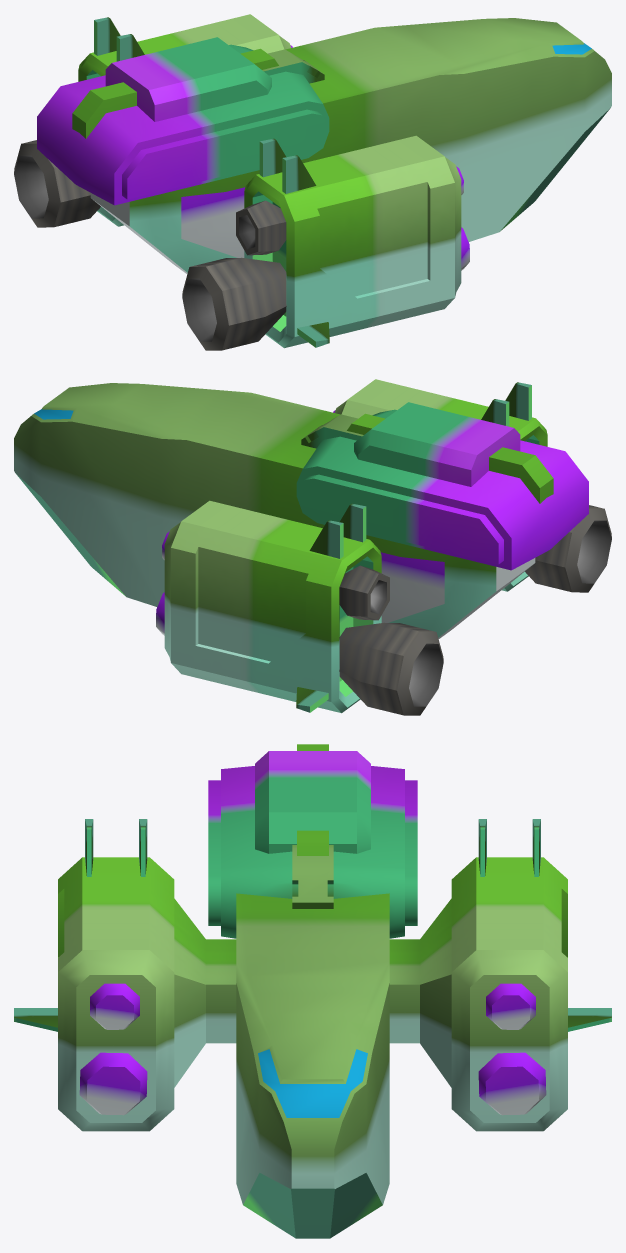
File: enemy1.fbx
3 views of the same model, one above another, from view 1: azimuth 30°, elevation 25°; view 2: azimuth 150°, elevation 25°; view 3: azimuth 270°, elevation 25° (orthographic). The views are drawn at different scales.
Parts seen in each view (by area): view 1: Enemy1.018, Enemy1.012, Enemy1.016, Enemy1.0, Enemy1.014, Enemy1.003, Enemy1.001, Enemy1.011, Enemy1.015, Enemy1.004, Enemy1.005, Enemy1.006 (+2 smaller); view 2: Enemy1.017, Enemy1.011, Enemy1.016, Enemy1.0, Enemy1.014, Enemy1.001, Enemy1.003, Enemy1.012, Enemy1.015, Enemy1.002, Enemy1.006, Enemy1.005 (+2 smaller); view 3: Enemy1.0, Enemy1.011, Enemy1.012, Enemy1.016, Enemy1.019, Enemy1.014, Enemy1.017, Enemy1.018, Enemy1.013, Enemy1.009, Enemy1.010, Enemy1.015 (+4 smaller).
Part boxes in pixels (bbox=[...]): Enemy1.018: bbox=[129, 51, 611, 272]; Enemy1.012: bbox=[244, 135, 461, 348]; Enemy1.016: bbox=[37, 44, 329, 205]; Enemy1.0: bbox=[90, 18, 594, 225]; Enemy1.014: bbox=[105, 37, 271, 121]; Enemy1.003: bbox=[182, 257, 286, 350]; Enemy1.001: bbox=[14, 140, 100, 227]; Enemy1.011: bbox=[78, 14, 291, 226]; Enemy1.015: bbox=[72, 48, 324, 138]; Enemy1.004: bbox=[236, 200, 286, 255]; Enemy1.005: bbox=[259, 138, 316, 193]; Enemy1.006: bbox=[94, 17, 144, 61]; Enemy1.017: bbox=[14, 416, 496, 637]; Enemy1.011: bbox=[164, 500, 381, 713]; Enemy1.016: bbox=[296, 409, 588, 570]; Enemy1.0: bbox=[30, 383, 535, 590]; Enemy1.014: bbox=[354, 402, 520, 486]; Enemy1.001: bbox=[339, 622, 443, 715]; Enemy1.003: bbox=[525, 505, 611, 592]; Enemy1.012: bbox=[334, 379, 547, 591]; Enemy1.015: bbox=[301, 413, 553, 503]; Enemy1.002: bbox=[339, 565, 389, 620]; Enemy1.006: bbox=[309, 503, 366, 558]; Enemy1.005: bbox=[481, 382, 531, 426]; Enemy1.0: bbox=[236, 893, 389, 1188]; Enemy1.011: bbox=[451, 857, 567, 1131]; Enemy1.012: bbox=[58, 857, 174, 1131]; Enemy1.016: bbox=[208, 766, 417, 938]; Enemy1.019: bbox=[174, 898, 451, 1087]; Enemy1.014: bbox=[255, 751, 370, 853]; Enemy1.017: bbox=[334, 983, 389, 1204]; Enemy1.018: bbox=[236, 983, 291, 1204]; Enemy1.013: bbox=[243, 1173, 382, 1238]; Enemy1.009: bbox=[79, 983, 147, 1115]; Enemy1.010: bbox=[478, 983, 546, 1115]; Enemy1.015: bbox=[292, 744, 333, 908].
Bounding box in the file's own units: 4.7 × 1.85 × 3.89.
